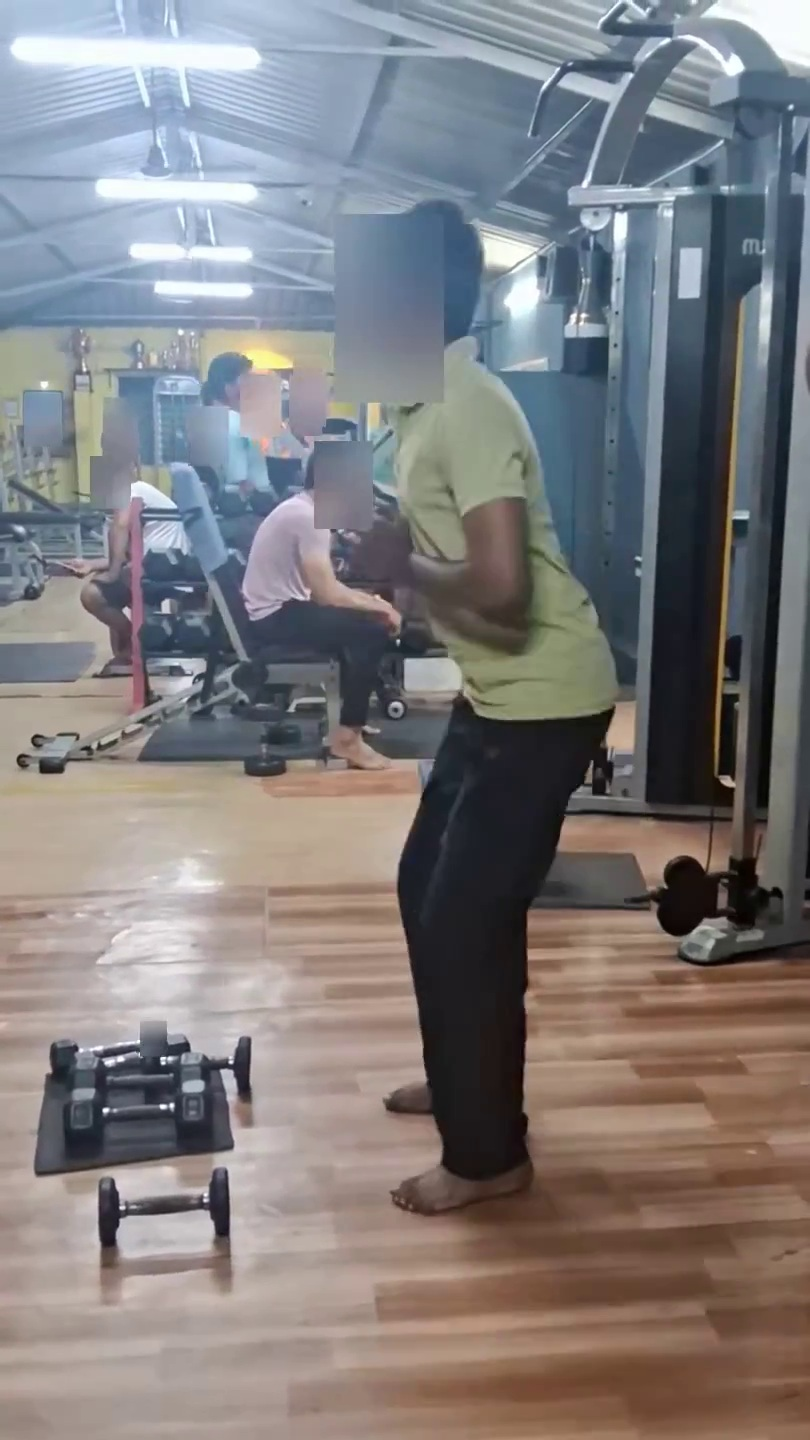squat_correct: (260, 207, 644, 1281)
